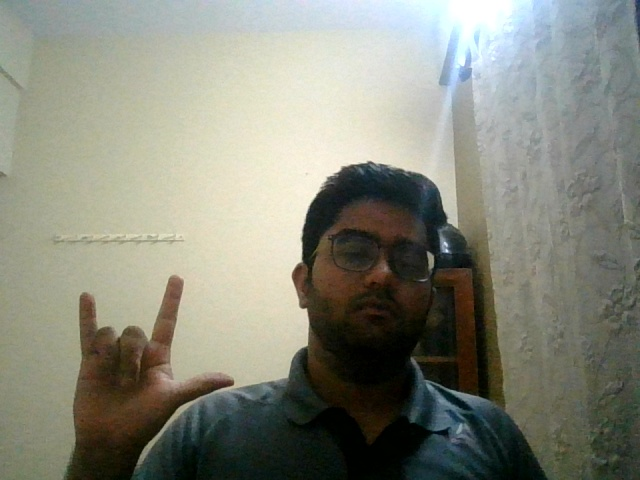I Love You: (58, 261, 238, 454)
